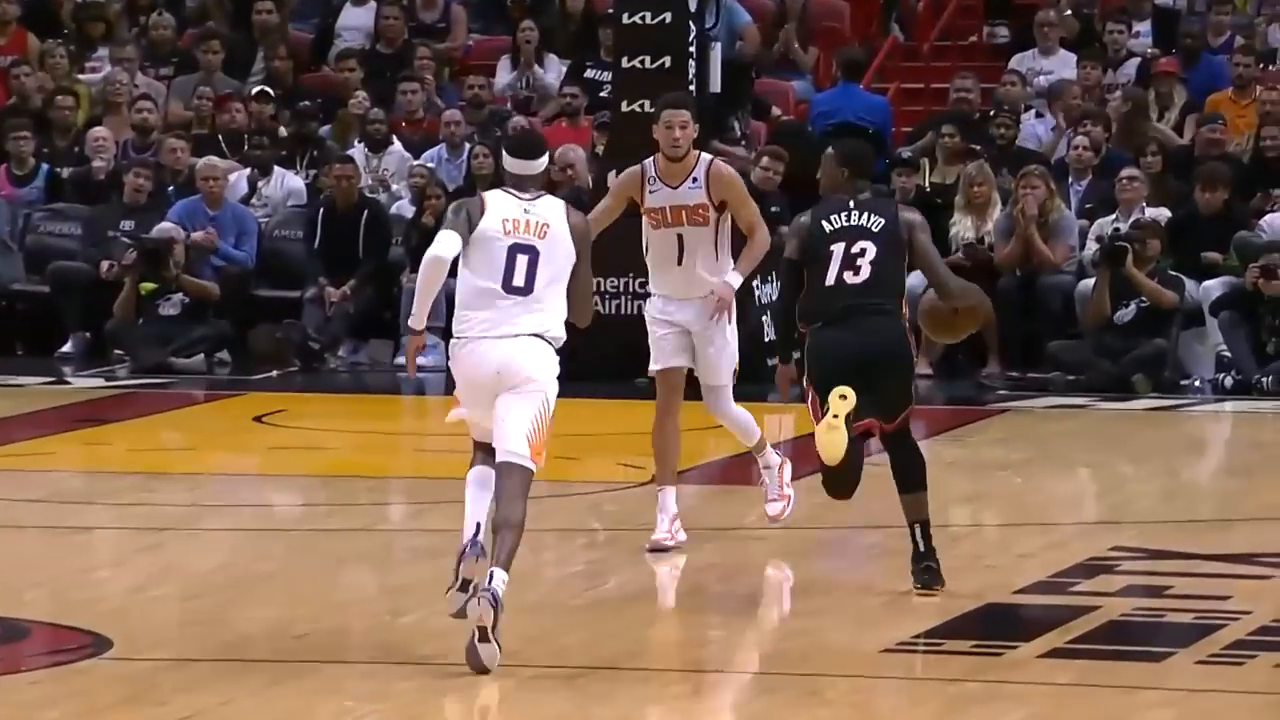ball: (909, 277, 998, 351)
